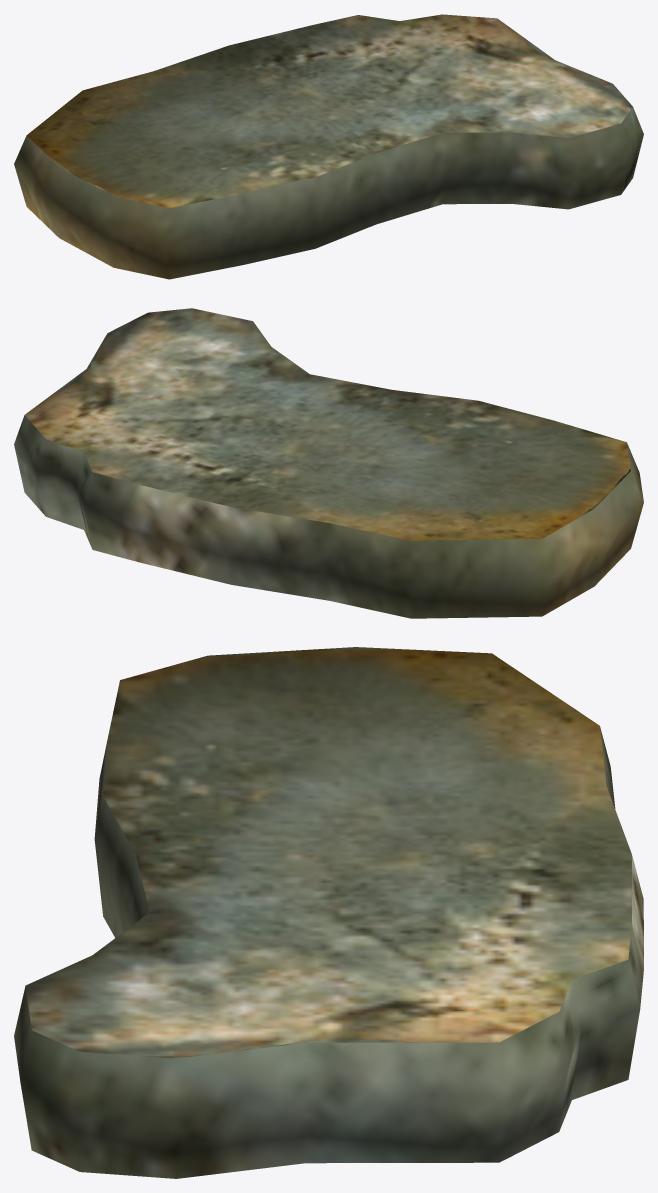
The model's file is rotten_dough.FBX.
The picture shows the model from 3 angles, top to bottom: view 1: azimuth 30°, elevation 25°; view 2: azimuth 150°, elevation 25°; view 3: azimuth 270°, elevation 25°; orthographic projection. The views are drawn at different scales.
Visible parts, largest first — view 1: rotten_dough; view 2: rotten_dough; view 3: rotten_dough.
Part boxes in pixels (x1,y1,x2,y2): rotten_dough: (14, 14, 643, 279); rotten_dough: (14, 308, 643, 618); rotten_dough: (14, 647, 643, 1178).
Size of the model in its own units: 14.4 by 1.89 by 8.97.
